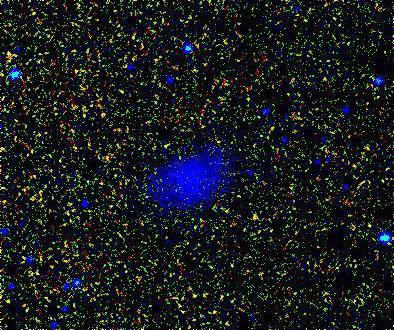star: (240, 203, 270, 233)
